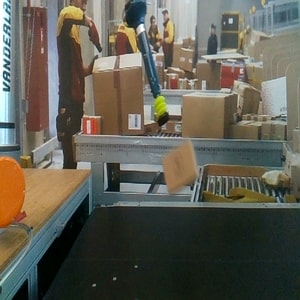box: (161, 138, 201, 198)
